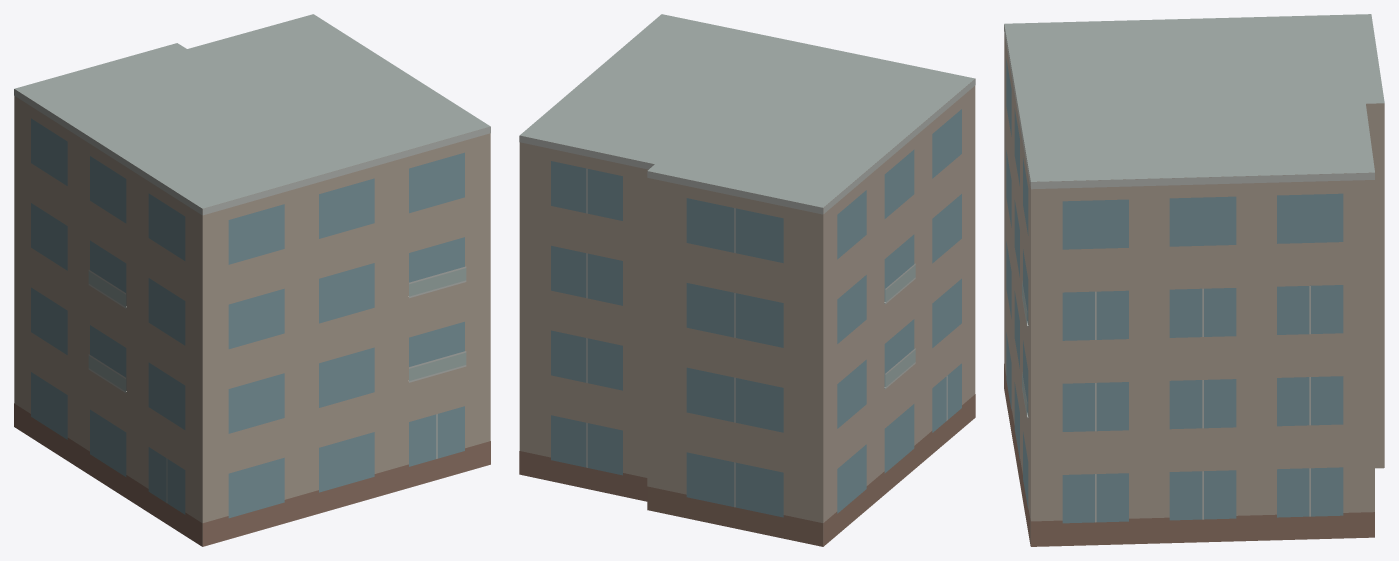
The model's file is survey-upis-32904234.glb.
3 views of the same model, side by side, from view 1: azimuth 30°, elevation 25°; view 2: azimuth 150°, elevation 25°; view 3: azimuth 270°, elevation 25° (orthographic). The views are drawn at different scales.
Visible parts, largest first — view 1: survey-upis-32904234.tmp; view 2: survey-upis-32904234.tmp; view 3: survey-upis-32904234.tmp.
Part boxes in pixels (<box>): survey-upis-32904234.tmp: <box>14,14,490,546</box>; survey-upis-32904234.tmp: <box>519,14,975,546</box>; survey-upis-32904234.tmp: <box>1004,14,1384,546</box>.
Size of the model in its own units: 12.1 by 12.25 by 11.59.
